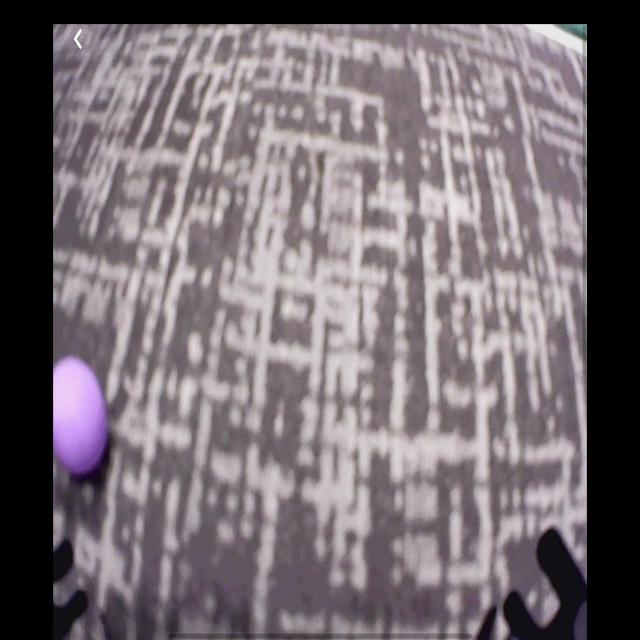ball: (54, 358, 109, 486)
